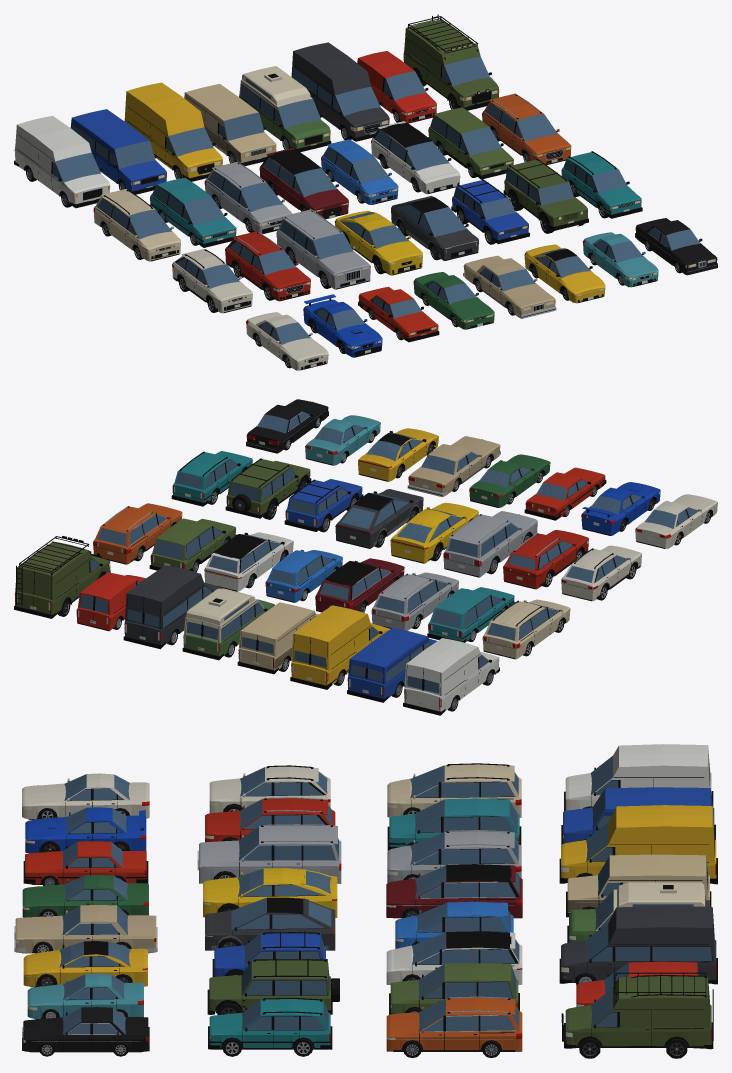
File: vehicles.glb
The picture shows the model from 3 angles, top to bottom: view 1: azimuth 30°, elevation 25°; view 2: azimuth 150°, elevation 25°; view 3: azimuth 270°, elevation 25°; orthographic projection. The views are drawn at different scales.
Parts seen in each view (by area): view 1: van_hightop_body, van_cargo_body, van_shuttle_body, van_overland_body, van_camper_fixed, van_passenger_body, suv_luxury_body, van_retro_body, van_overland_fixed, minivan_ev_fixed, minivan_bold_fixed, minivan_family_body (+52 smaller); view 2: van_hightop_body, van_overland_body, van_cargo_body, van_shuttle_body, van_camper_fixed, suv_luxury_body, van_passenger_body, van_retro_body, minivan_family_body, minivan_suvish_body, minivan_modern_body, sedan_luxury_body (+52 smaller); view 3: van_overland_body, van_hightop_body, van_shuttle_body, van_cargo_body, minivan_suvish_body, suv_luxury_body, sedan_luxury_body, van_retro_body, suv_nineties_body, minivan_bold_fixed, sedan_exec_body, minivan_ev_fixed (+51 smaller).
Part boxes in pixels (box(x1,y1,x2,y2)): van_hightop_body: box(124, 82, 222, 178); van_cargo_body: box(15, 116, 109, 204); van_shuttle_body: box(291, 42, 389, 137); van_overland_body: box(404, 19, 498, 107); van_camper_fixed: box(239, 66, 331, 152); van_passenger_body: box(70, 109, 166, 191); suv_luxury_body: box(276, 209, 370, 289); van_retro_body: box(184, 84, 276, 162); van_overland_fixed: box(406, 14, 498, 110); minivan_ev_fixed: box(373, 122, 459, 193); minivan_bold_fixed: box(262, 149, 347, 219); minivan_family_body: box(94, 189, 180, 261); van_hightop_body: box(291, 605, 389, 685); van_overland_body: box(15, 541, 110, 614); van_cargo_body: box(404, 638, 499, 711); van_shuttle_body: box(124, 565, 222, 644); van_camper_fixed: box(182, 588, 267, 660); suv_luxury_body: box(443, 511, 537, 577); van_passenger_body: box(347, 628, 436, 698); van_retro_body: box(238, 602, 318, 670); minivan_family_body: box(483, 599, 570, 659); minivan_suvish_body: box(93, 503, 182, 564); minivan_modern_body: box(371, 572, 458, 630); sedan_luxury_body: box(408, 436, 500, 497); van_overland_body: box(565, 976, 711, 1049); van_hightop_body: box(561, 805, 716, 884); van_shuttle_body: box(561, 906, 716, 983); van_cargo_body: box(565, 744, 711, 810); minivan_suvish_body: box(386, 997, 522, 1051); suv_luxury_body: box(199, 825, 341, 883); sedan_luxury_body: box(15, 905, 156, 952); van_retro_body: box(567, 854, 709, 912); suv_nineties_body: box(209, 999, 330, 1049); minivan_bold_fixed: box(393, 864, 519, 918); sedan_exec_body: box(23, 1007, 148, 1051); minivan_ev_fixed: box(402, 931, 519, 981).
Bounding box in the file's own units: 23.35 × 2.83 × 26.74.
